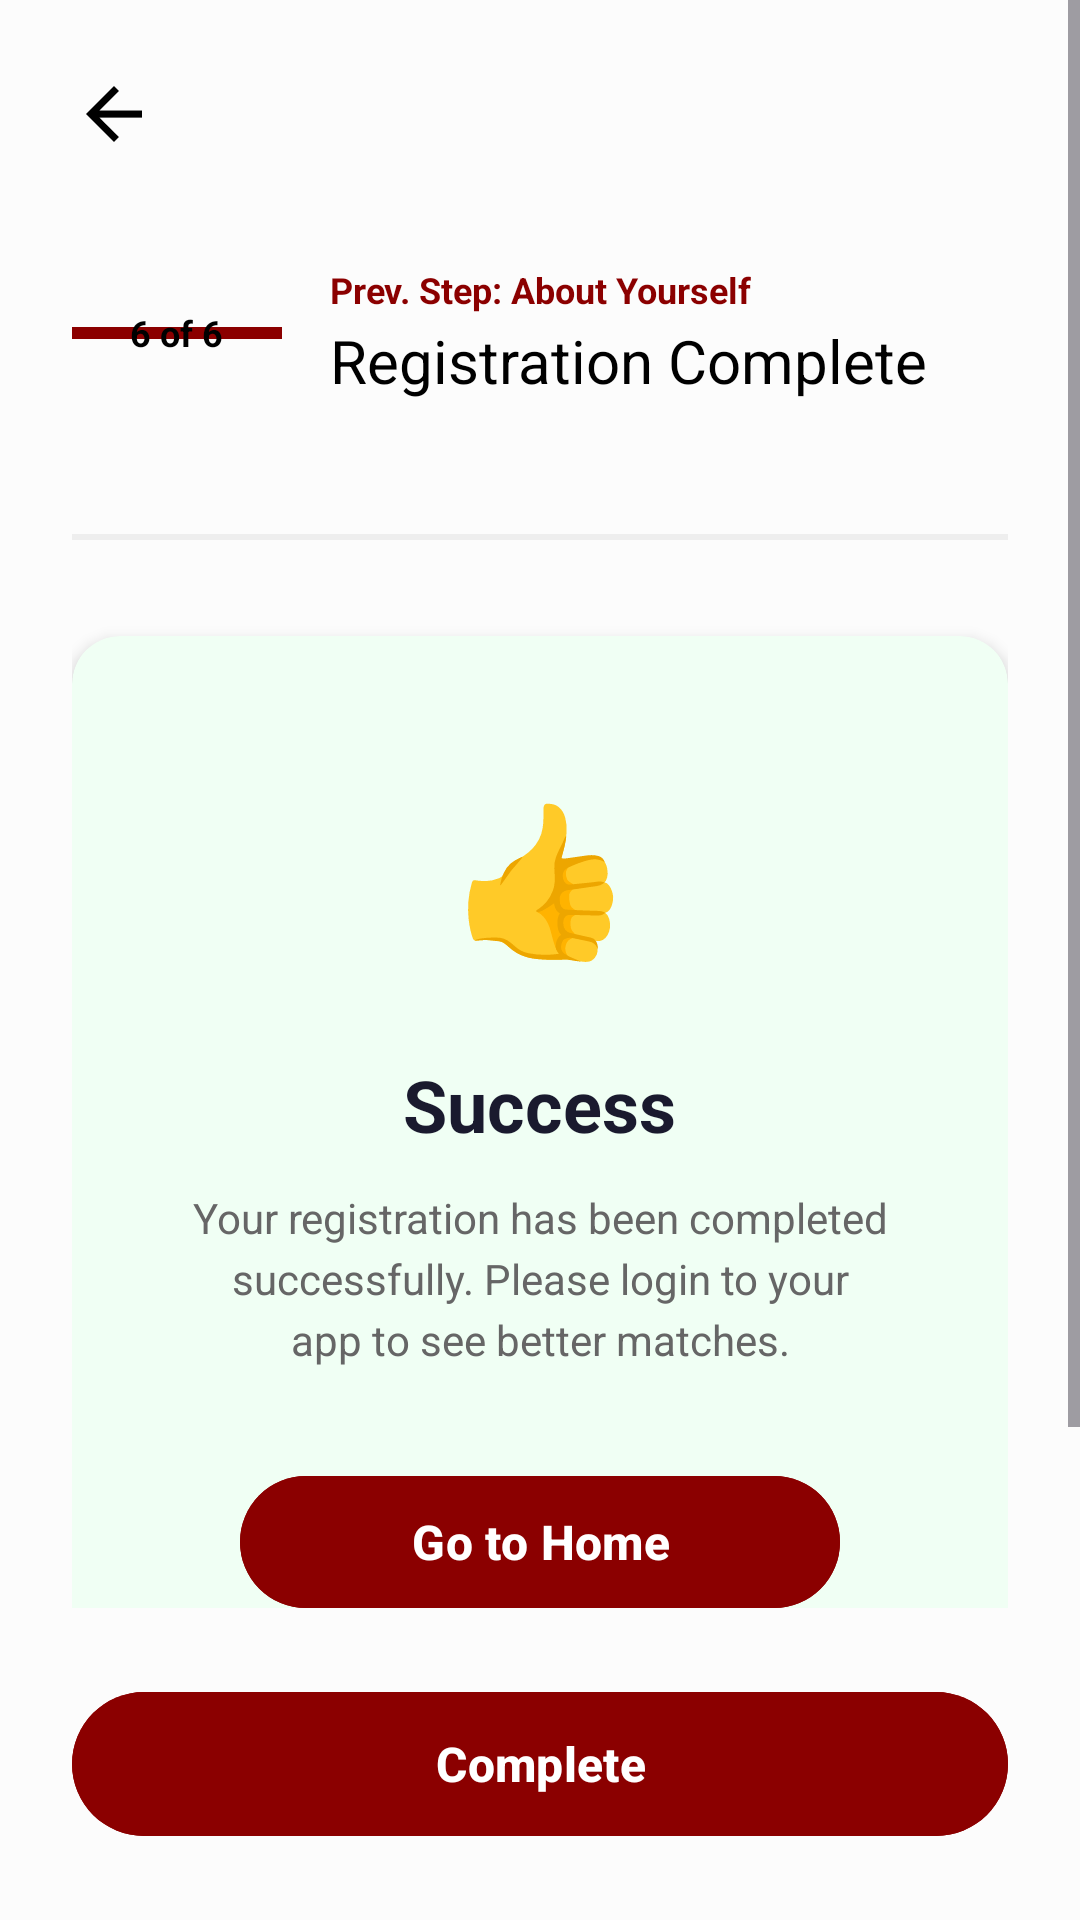

Locate icon controls on the screen. Image size 1080 × 1920, boxes as (x1, y1, x2, y2).
Back: (86, 86, 142, 142)
